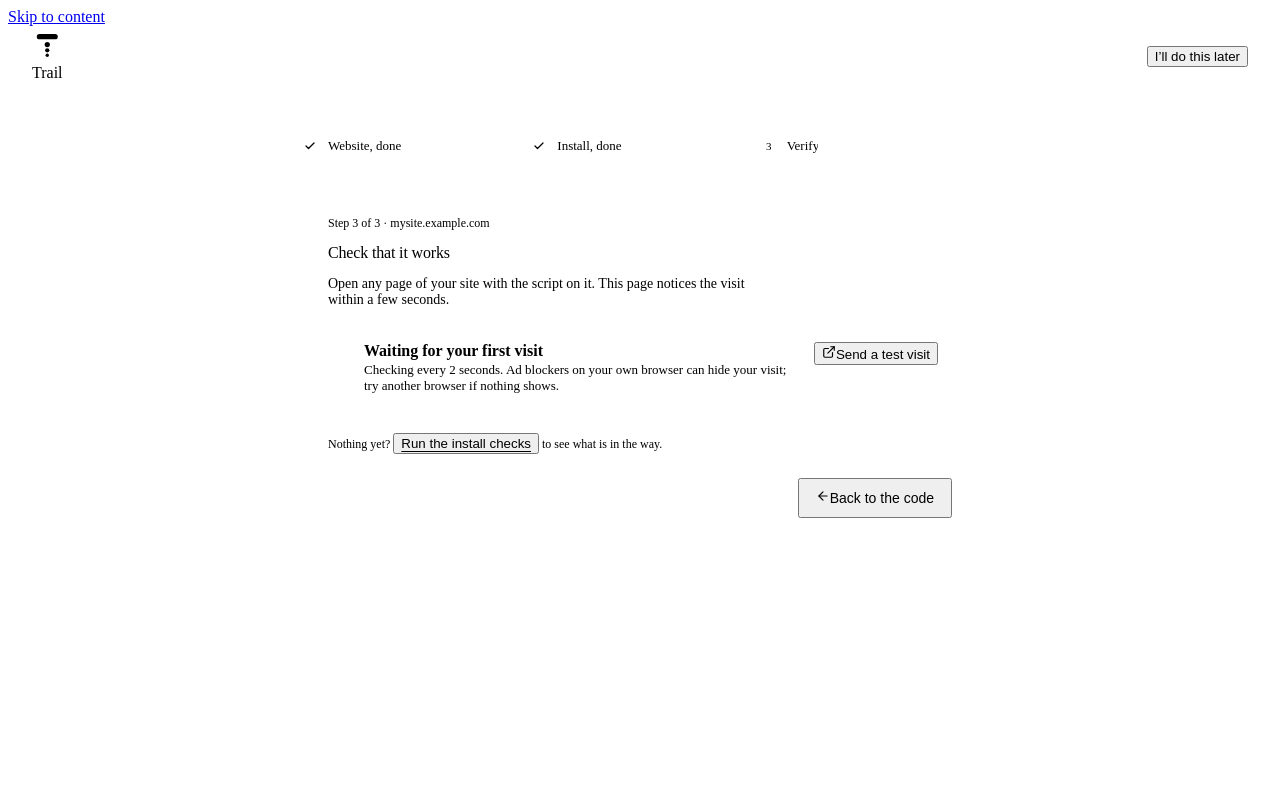
Test: Onboarding › step 3 waits, then moves to Done when the first event arrives
Later steps or results of the test are not shown.
Expected: the message with test id "onb-status" shows "Waiting for your first visit", [364,342,543,358]
Expected: the button "Send a test visit" is shown, [814,342,938,364]
Click the button "Run the install checks". click: (466, 443)
box: [393,432,539,454]
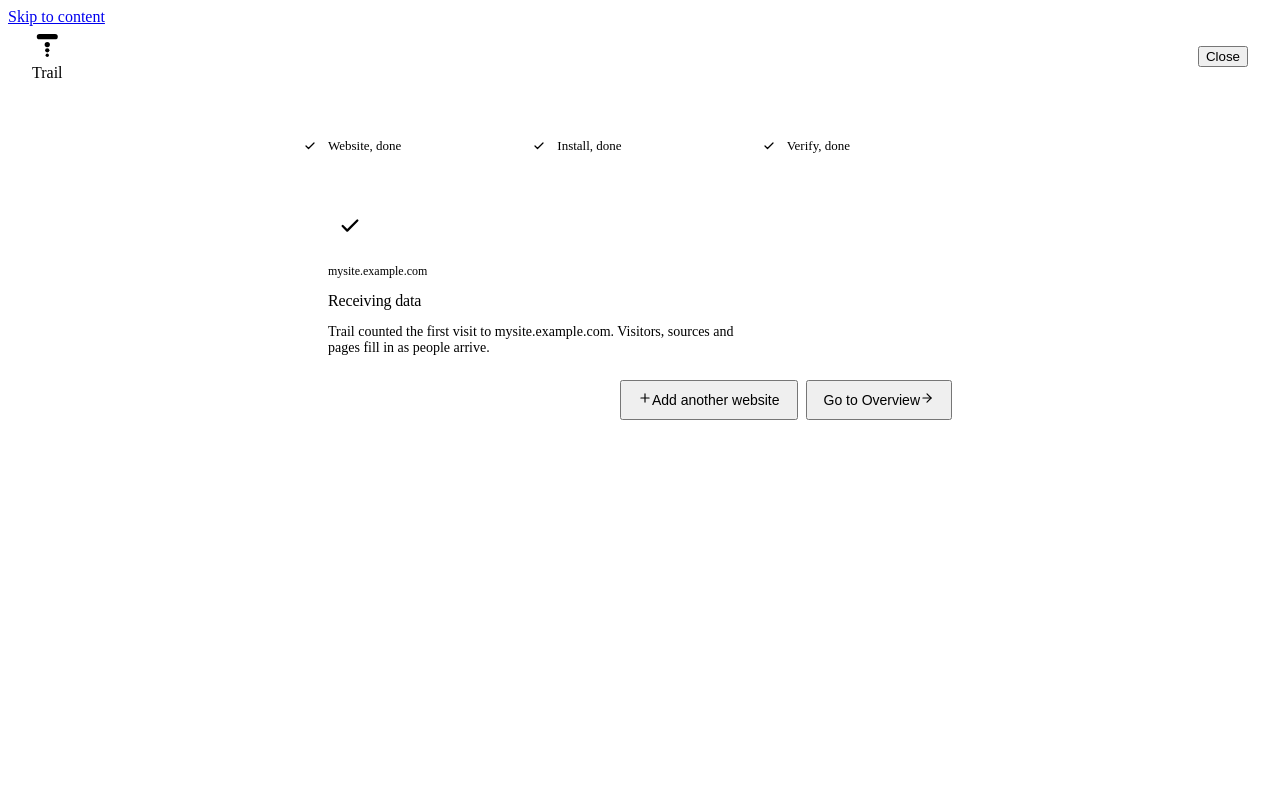
Expected: the heading "Receiving data" is shown, [328,292,421,309]
